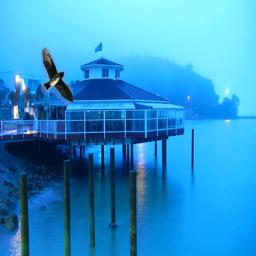Swallow: (41, 47, 73, 104)
